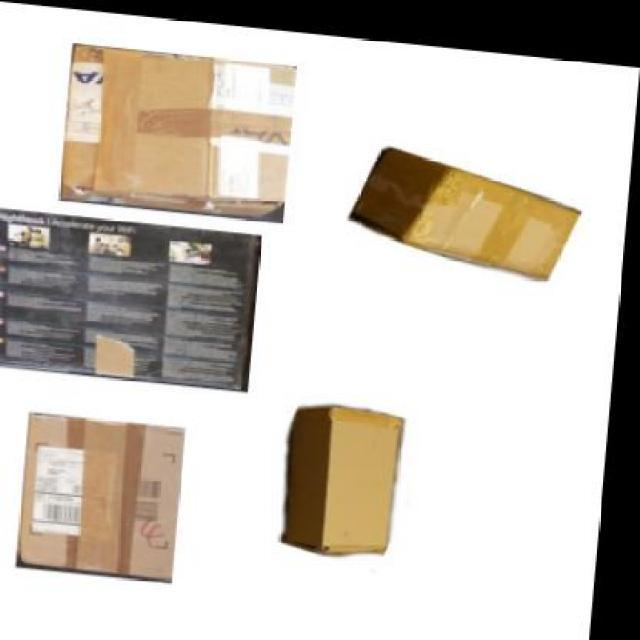box: (0, 205, 264, 386), (62, 42, 294, 216), (352, 140, 584, 266), (26, 410, 194, 574), (294, 396, 406, 552)
